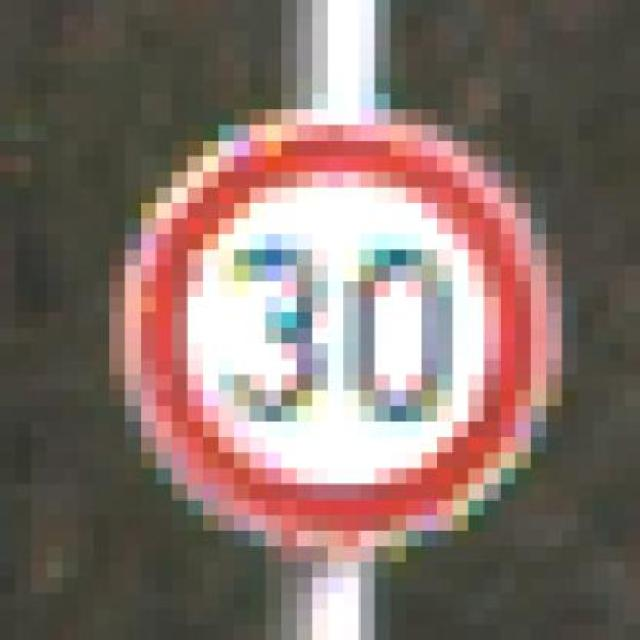Speed Limit 30 KMPh: (78, 93, 578, 562)
